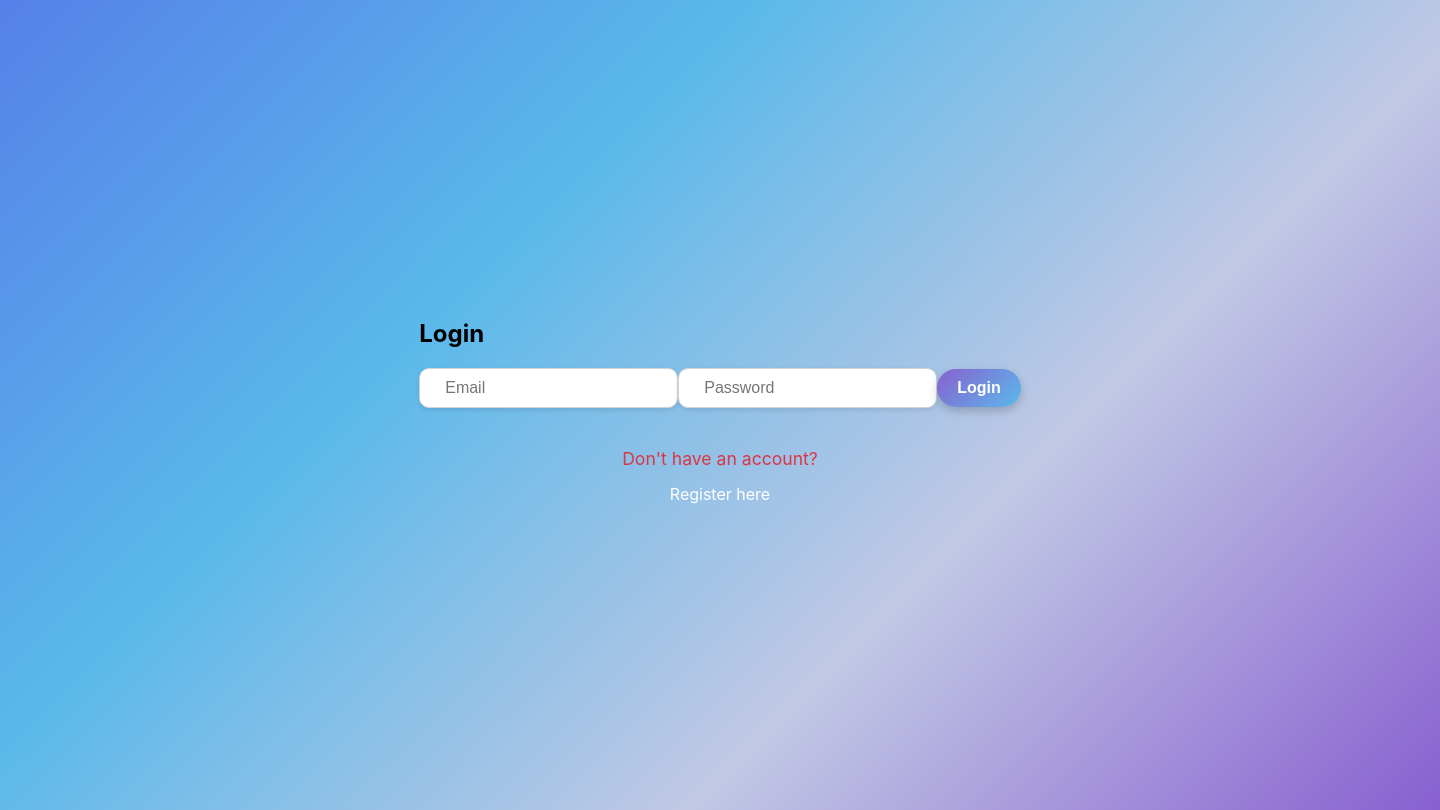
Scenario: Login Component Tests › failed login
This screenshot has width=1440, height=810.
Type "test@example.com" into the field with placeholder "Email" at (549,388), box [419,368,678,408]
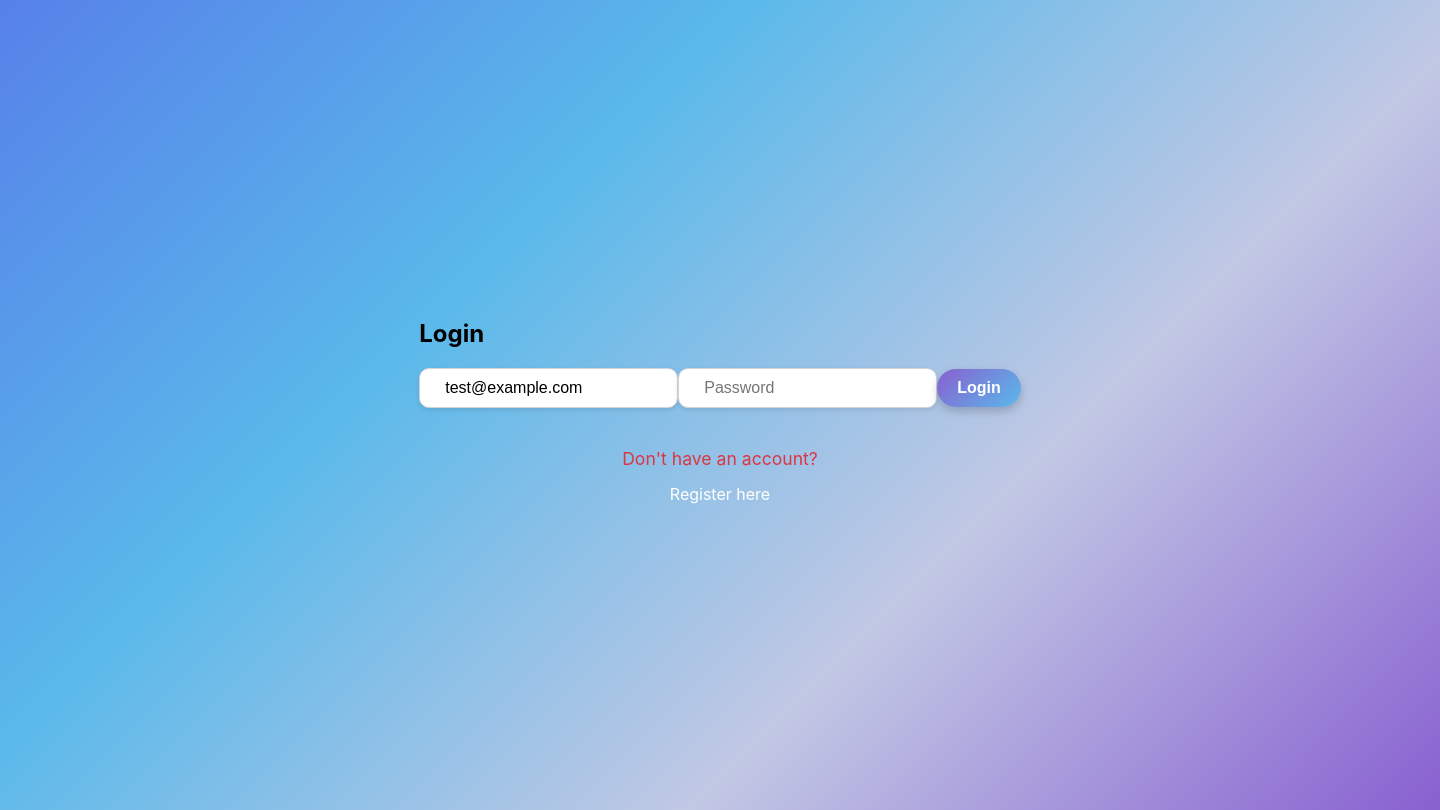
Type "wrong-password" into the password field with placeholder "Password" at (808,388), box [678,368,937,408]
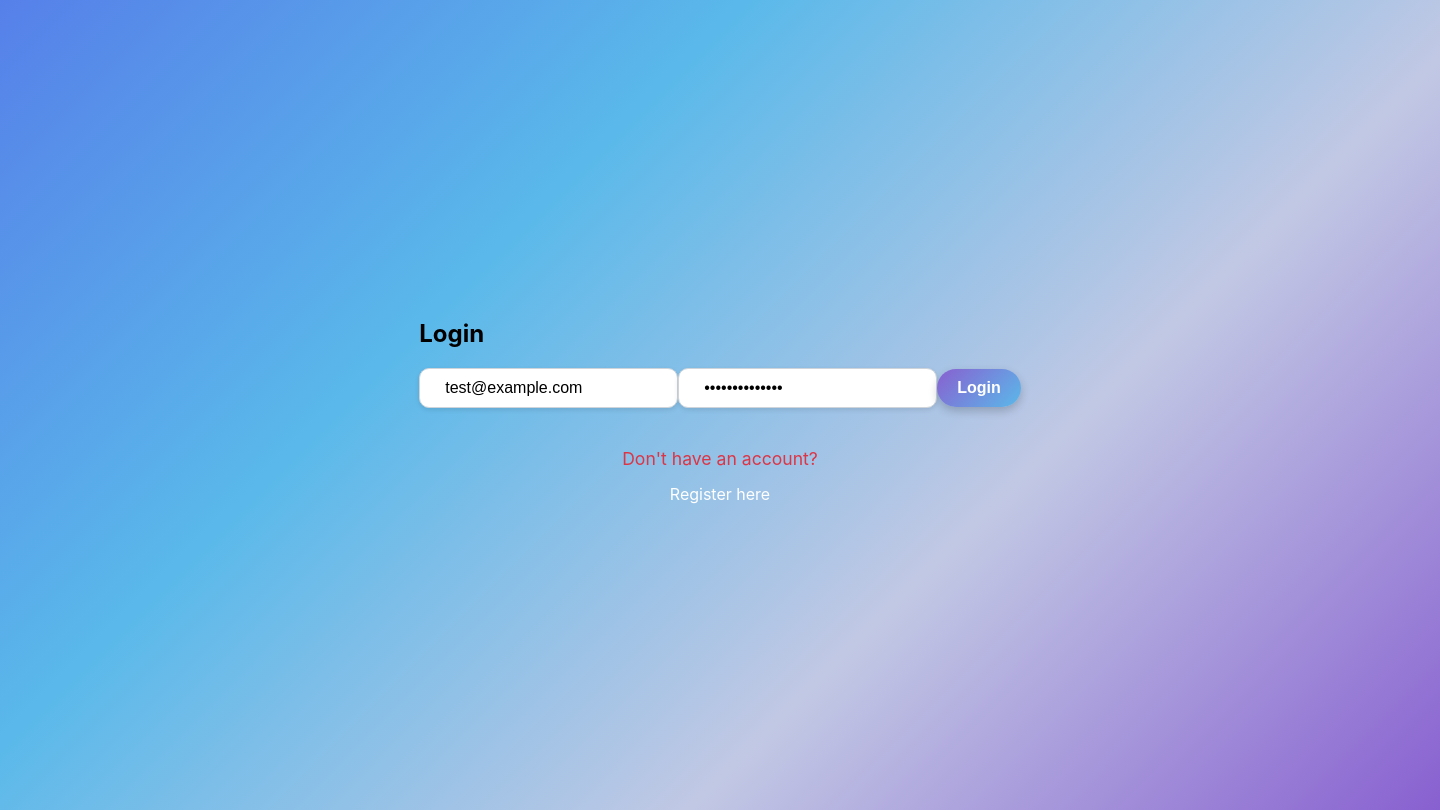
Click the button "Login" at (979,388), box [937,369,1021,407]
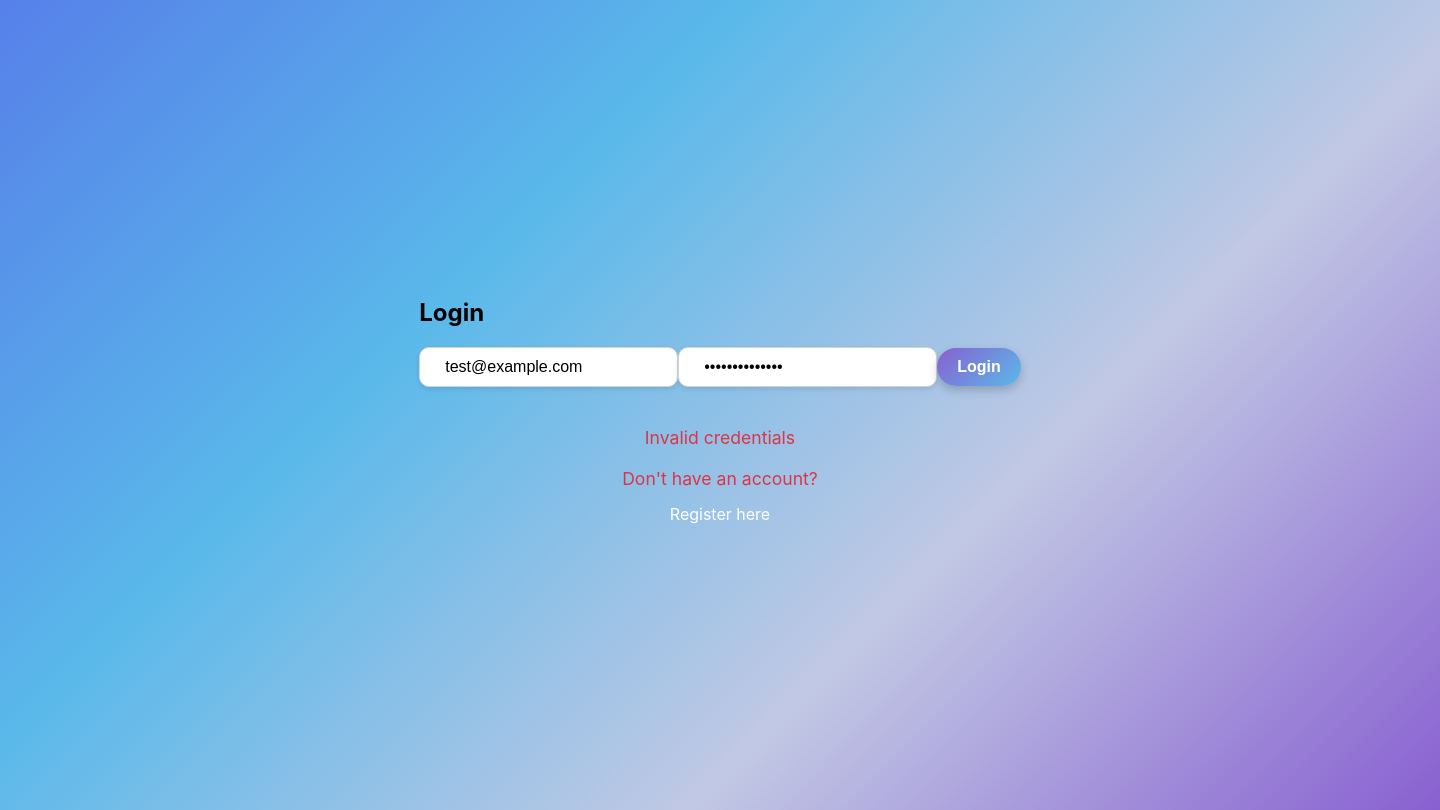
expect the text "Invalid credentials" is shown: met, box [645,427,795,448]
